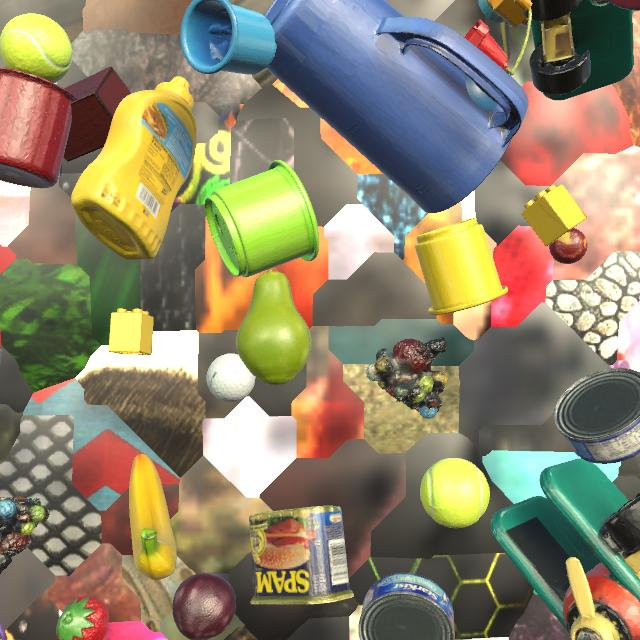ycb_006_mustard_bottle: (71, 76, 196, 260)
ycb_007_tuna_fish_can: (553, 368, 640, 464), (358, 573, 455, 640)
ycb_010_potted_meat_can: (249, 505, 354, 605), (0, 349, 2, 362)
ycb_011_banana: (129, 454, 177, 580)
ycb_012_strawberry: (56, 596, 109, 640)
ycb_016_pear: (236, 269, 312, 385)
ycb_018_plum: (172, 573, 236, 640)
